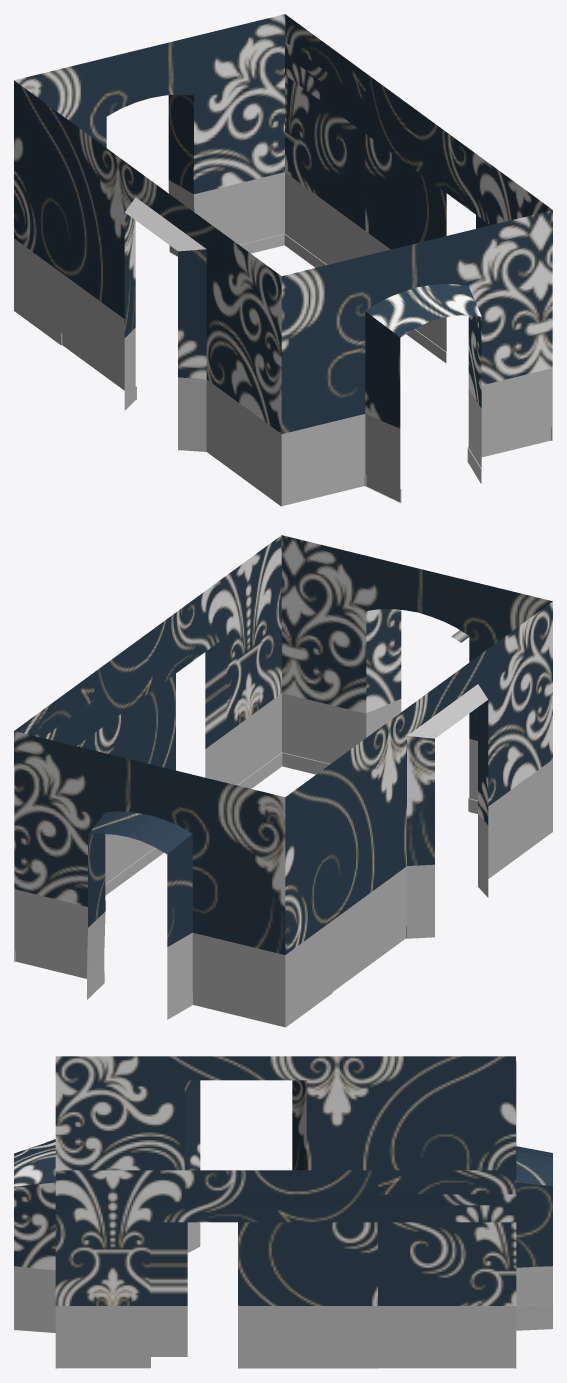
File: AvantSala_v2_001.fbx
3 views of the same model, one above another, from view 1: azimuth 30°, elevation 25°; view 2: azimuth 150°, elevation 25°; view 3: azimuth 270°, elevation 25° (orthographic). The views are drawn at different scales.
Parts seen in each view (by area): view 1: Salo Verd.004; view 2: Salo Verd.004; view 3: Salo Verd.004.
Boxes of the visible parts, box(x1,y1,x2,y2) form: Salo Verd.004: box(14, 14, 552, 506); Salo Verd.004: box(14, 535, 552, 1027); Salo Verd.004: box(14, 1056, 552, 1368).
Bounding box in the file's own units: 583 × 445 × 1088.
